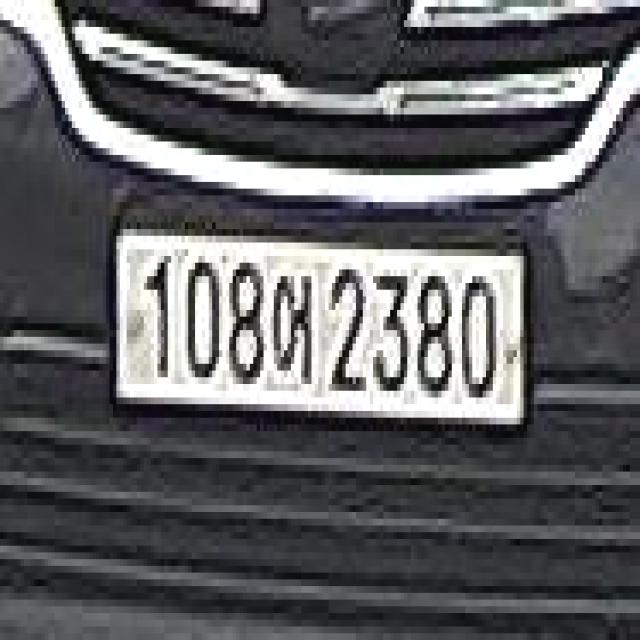illegal_plate: (105, 206, 532, 457)
